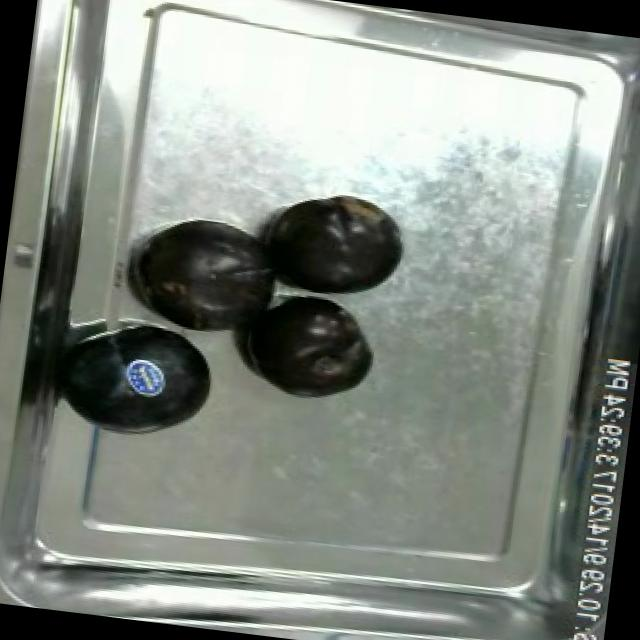Fruit: (55, 310, 226, 448), (256, 181, 414, 308), (236, 289, 384, 409)
